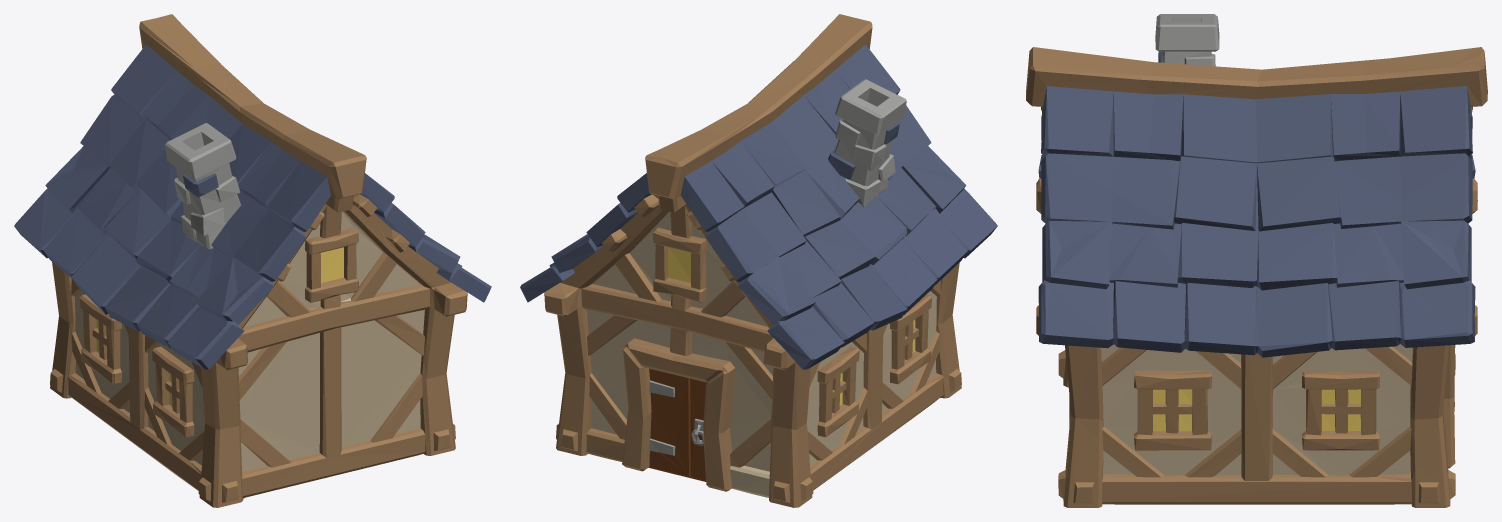
File: MedievalHouse.fbx
3 renders of one model, left to right at view 1: azimuth 30°, elevation 25°; view 2: azimuth 150°, elevation 25°; view 3: azimuth 270°, elevation 25°, orthographic. The views are drawn at different scales.
Parts seen in each view (by area): view 1: MedievalHouse_LOD0; view 2: MedievalHouse_LOD0; view 3: MedievalHouse_LOD0.
Part boxes in pixels (x1,y1,x2,y2): MedievalHouse_LOD0: [14, 14, 491, 507]; MedievalHouse_LOD0: [520, 14, 997, 507]; MedievalHouse_LOD0: [1026, 14, 1487, 507].
Size of what is drawn, in the model's own units: 6.87 by 7.8 by 7.18.
